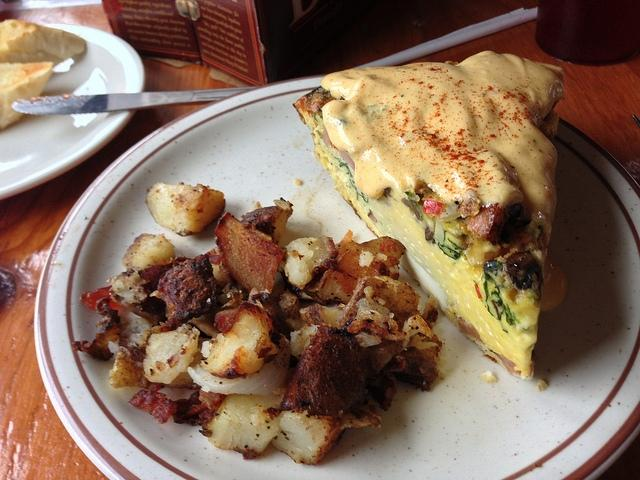potato: (282, 326, 372, 419), (271, 394, 381, 465), (200, 299, 286, 379), (198, 393, 283, 460), (215, 213, 284, 294), (106, 255, 188, 323), (150, 253, 218, 324), (338, 276, 422, 332), (145, 182, 226, 236), (142, 323, 200, 384), (278, 235, 339, 292), (336, 236, 406, 280), (302, 265, 358, 306), (121, 233, 176, 271), (240, 206, 292, 244), (108, 352, 154, 390), (299, 303, 343, 329), (408, 334, 440, 368), (402, 314, 434, 342), (356, 310, 384, 324)
